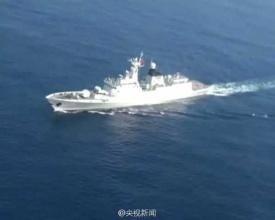warship: (48, 52, 215, 114)
